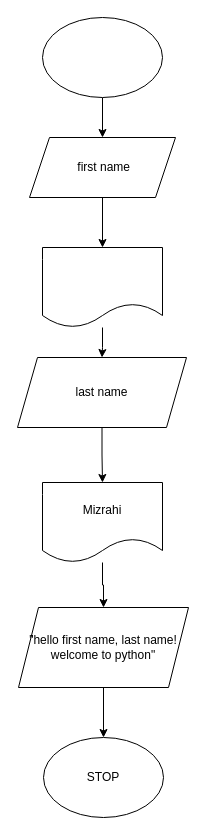
Some shapes in this 206 by 835 pixel diagram are drawn without their labels. The centre of each missing label's shape, as x and y in pixels:
"Daniel" belongs at (x=102, y=287).
"START" belongs at (x=102, y=57).
